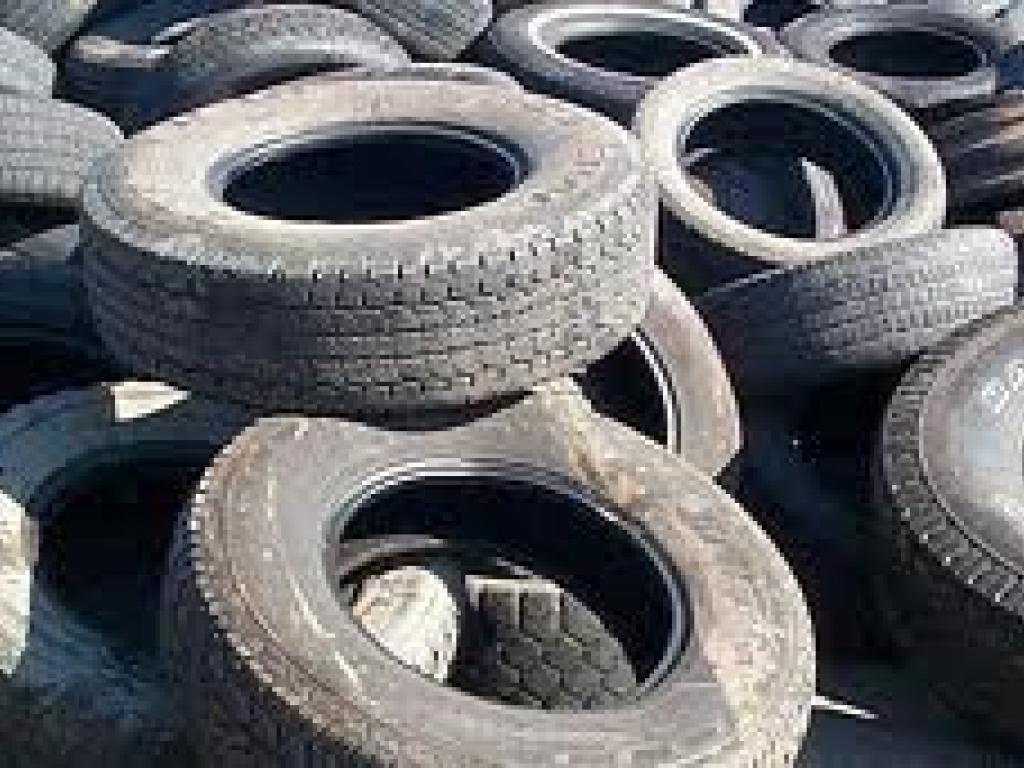tire: (160, 408, 818, 768), (83, 81, 655, 409), (634, 57, 947, 280), (715, 222, 1024, 408), (781, 2, 1024, 119), (486, 7, 777, 101)
